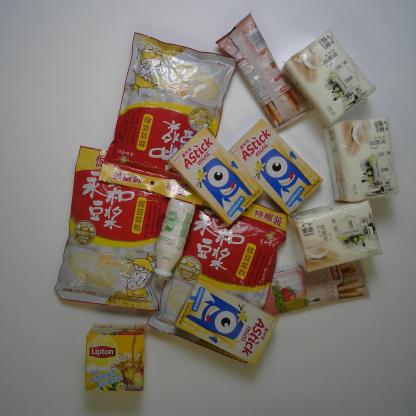Dessert: (215, 12, 311, 128), (166, 127, 263, 228), (228, 119, 322, 216), (245, 254, 372, 325), (180, 278, 278, 367)
Instant Drink: (149, 188, 293, 364), (99, 29, 234, 203), (57, 144, 173, 315), (83, 319, 151, 393)
Milk: (152, 198, 195, 281)
Tissue: (282, 30, 376, 128), (324, 115, 400, 206), (288, 199, 380, 271)
